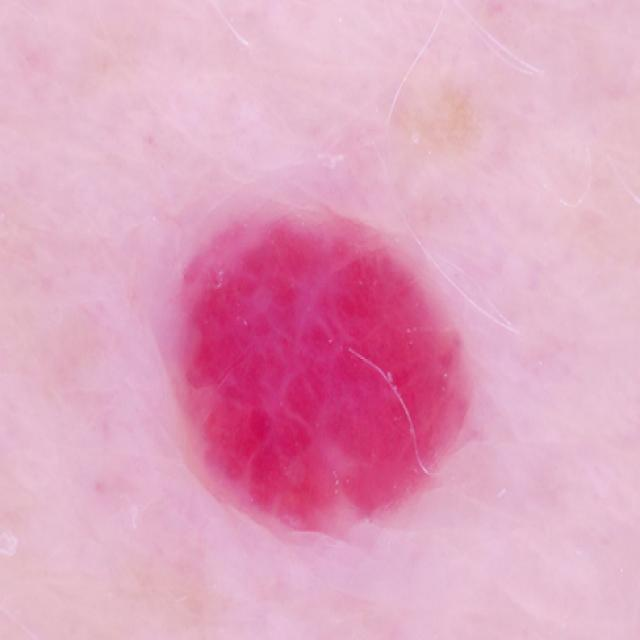Vascular Lesions: (144, 138, 539, 595)
